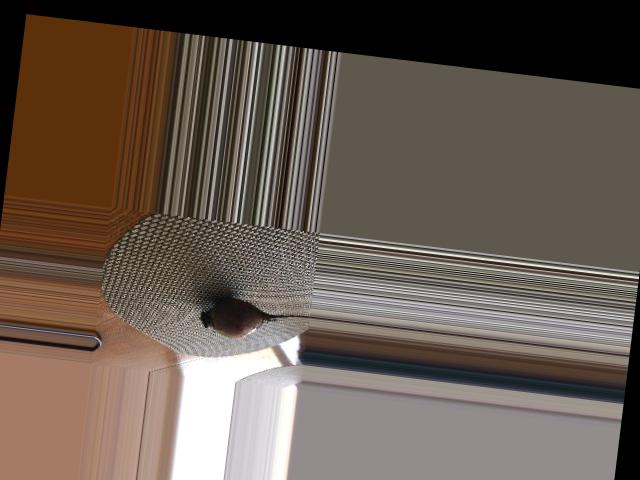beet: (197, 295, 310, 346)
